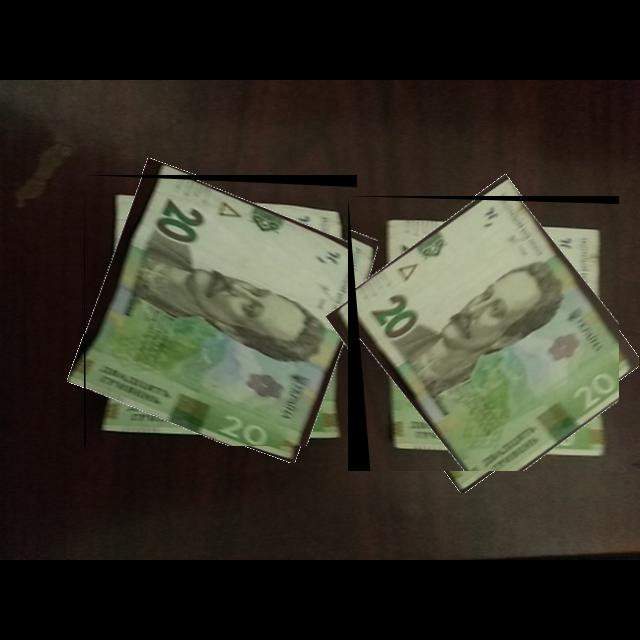20uah: (348, 196, 620, 472), (84, 175, 358, 447)
